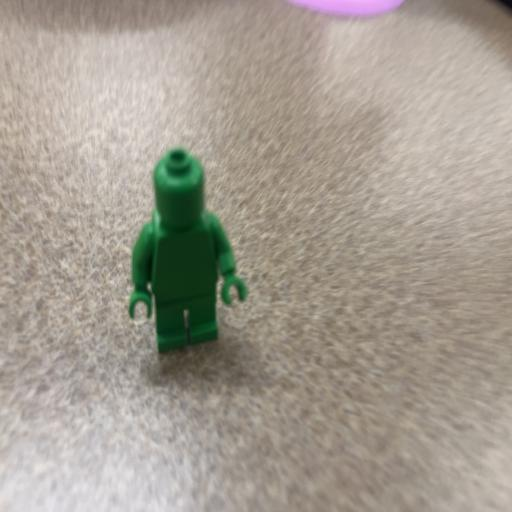Lego-Minifig: (129, 148, 246, 352), (173, 276, 200, 286)
